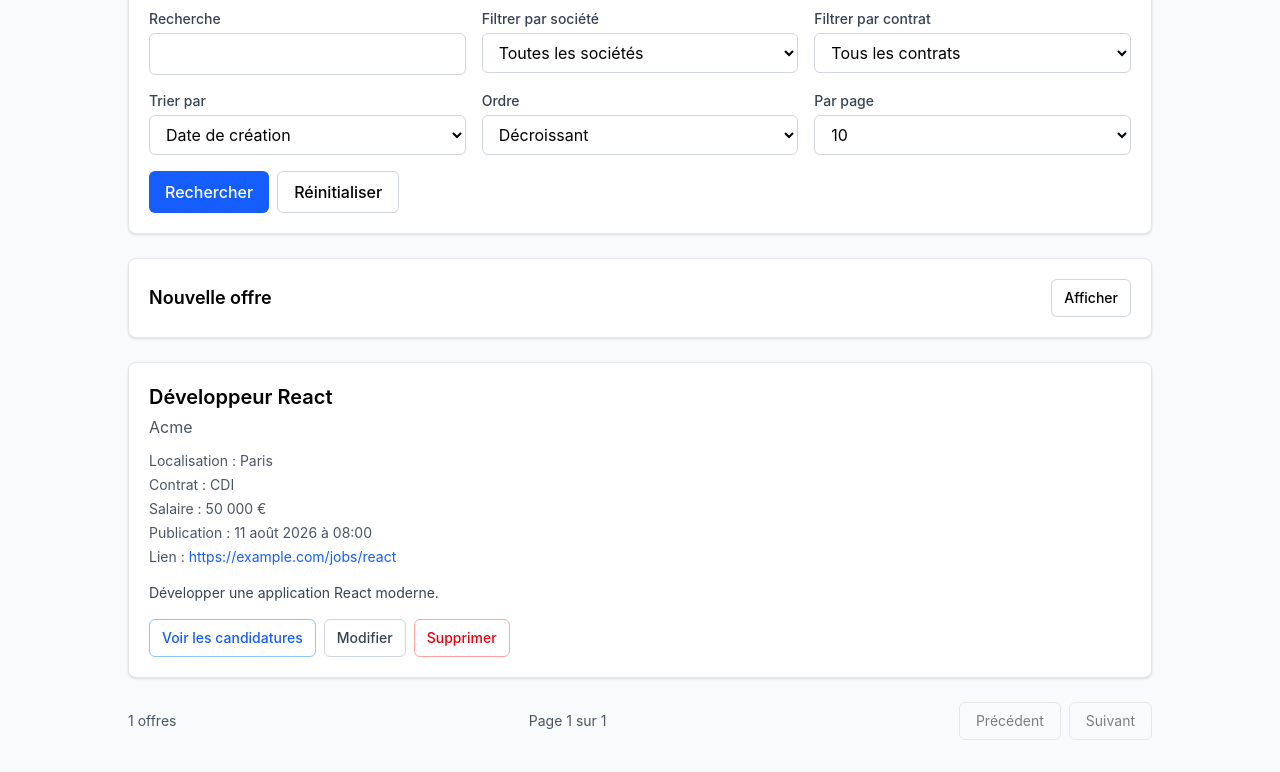
Test: JobOffersPage › prefills the edit form with the existing job offer
(page scrolled)
What coordinates should you click on to do the following:
click the button "Modifier"
I would click on:
 (365, 638)
Its box is [324, 619, 406, 657].
(page scrolled)
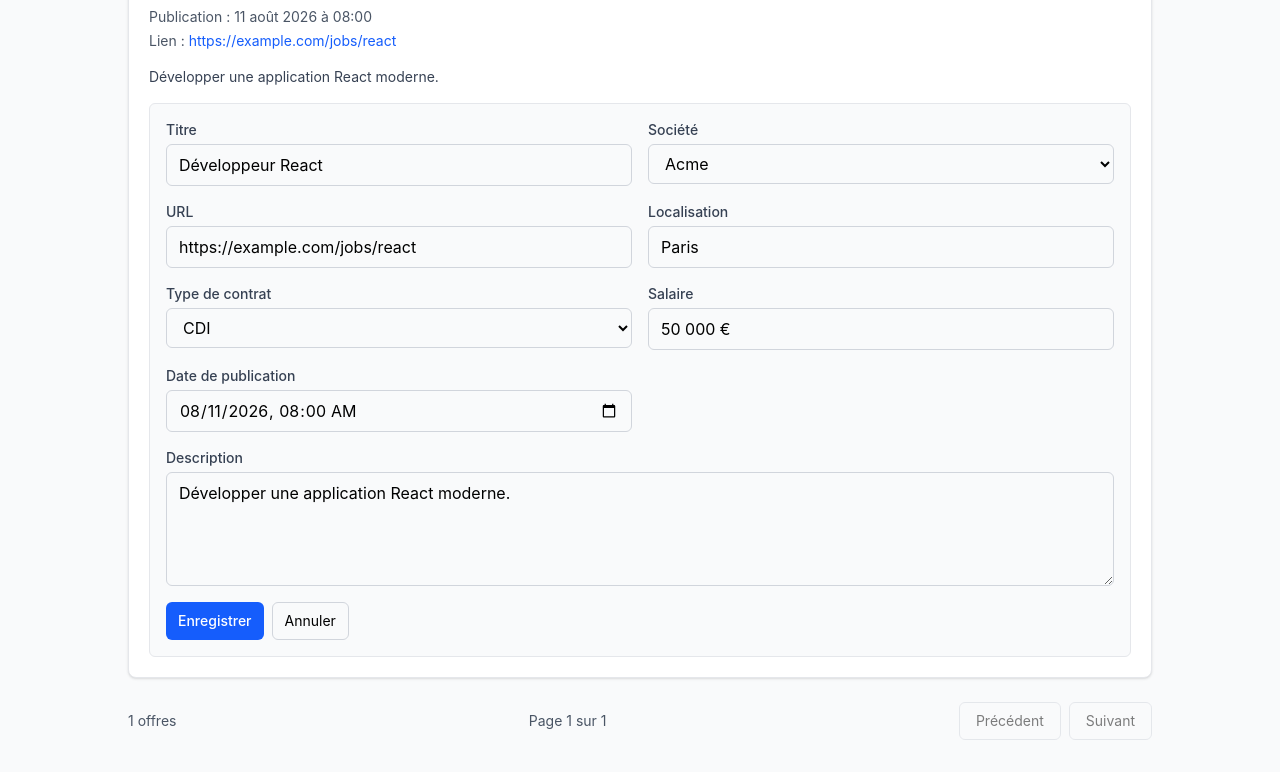
expect the form named "Annuler" is shown: met, box [149, 103, 1131, 657]
expect the field labelled "Titre" holds "Développeur React": met, box [166, 144, 632, 186]
expect the dropdown labelled "Société" shows "Acme": met, box [648, 144, 1114, 184]
